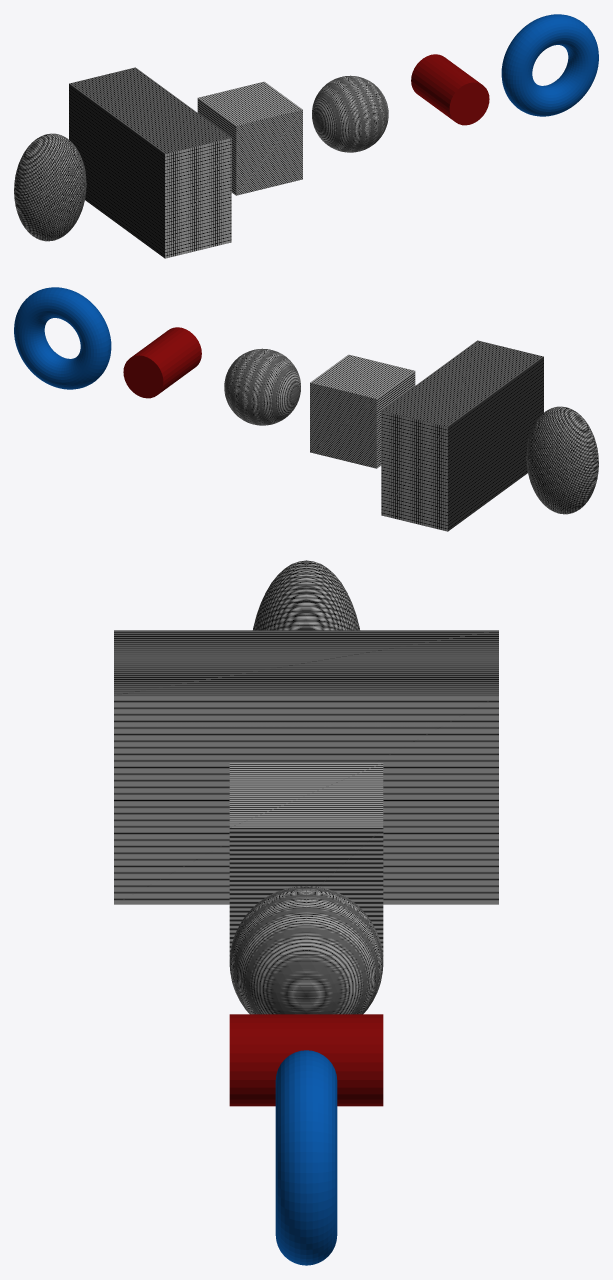
File: primitives.glb
3 renders of one model, top to bottom at view 1: azimuth 30°, elevation 25°; view 2: azimuth 150°, elevation 25°; view 3: azimuth 270°, elevation 25°, orthographic. The views are drawn at different scales.
Visible parts, largest first — view 1: world; view 2: world; view 3: world.
Part boxes in pixels (box(x1,y1,x2,y2)): world: box(14, 14, 598, 258); world: box(14, 287, 598, 531); world: box(114, 560, 498, 1265).
Bounding box in the file's own units: 174 × 30 × 50.
Materials: 1 (1 with a texture image).
